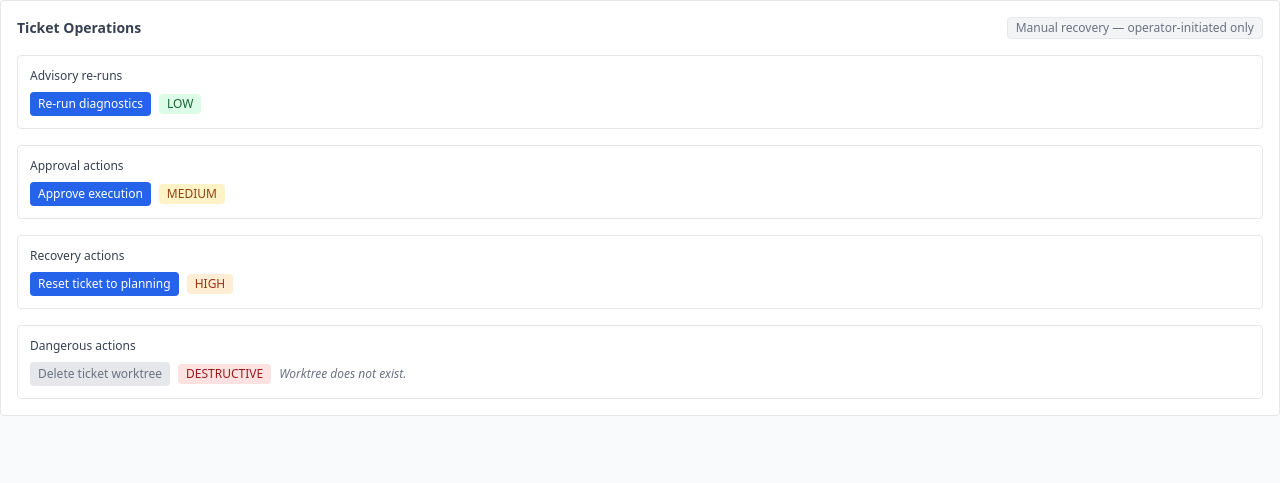
Test case: TicketOperationsPanel › surfaces API error in result message
What coordinates should you click on to do the following:
click the button "Re-run diagnostics"
I would click on:
 (90, 104)
Its box is [30,92,151,116].
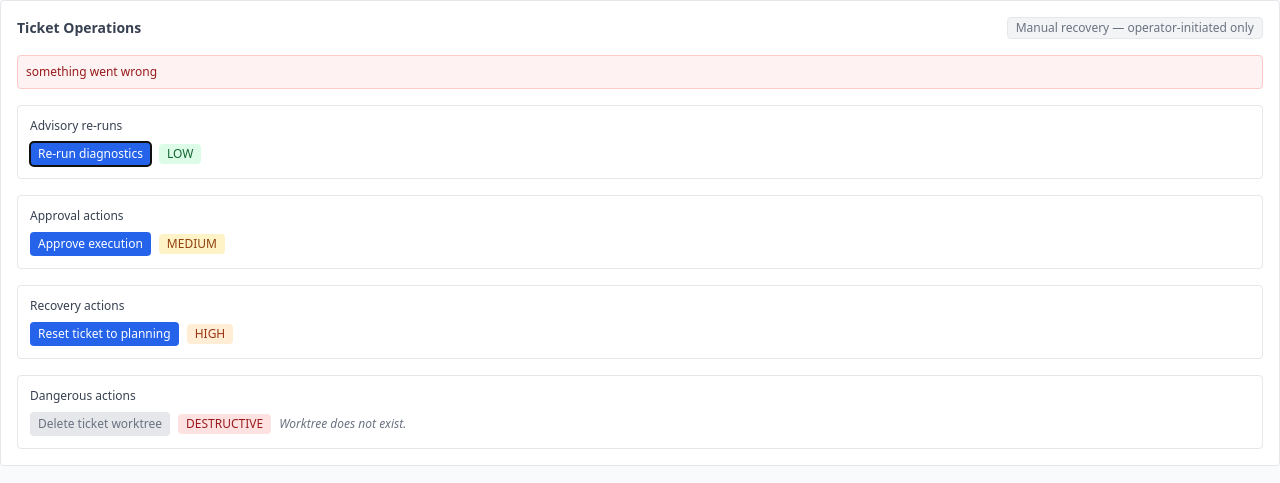
Now the text "something went wrong" is shown, box [17,55,1263,89]
